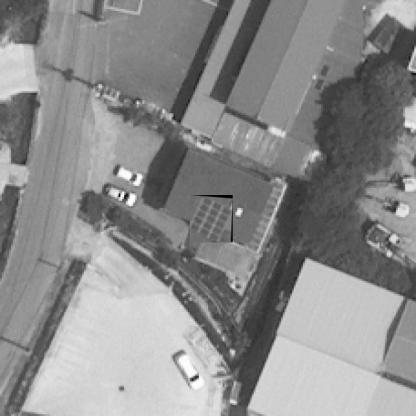solar-pv-panel: (190, 196, 232, 242)
